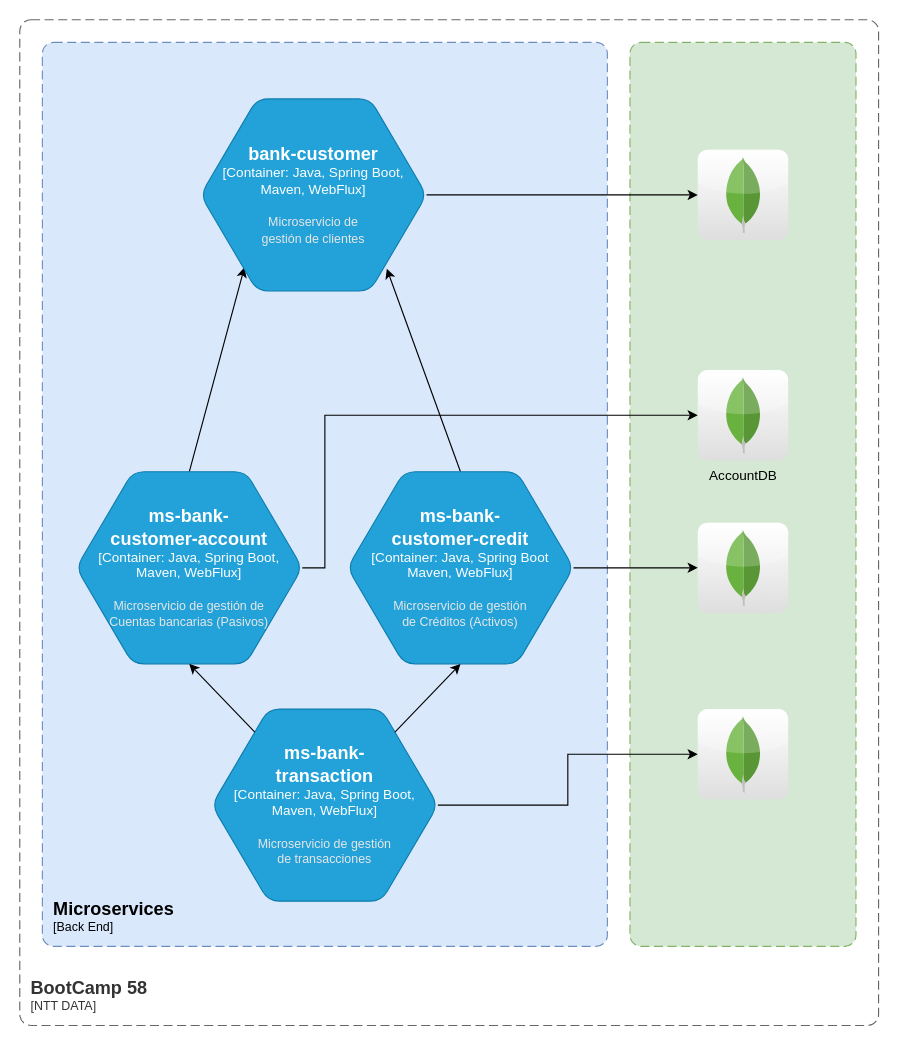
Some shapes in this 898 by 1045 pixel diagram are drawn without their labels. Here are the shapes that lost their labels. From the top down, the box of each, then its label:
(696, 148, 789, 241): CustomerDB
(629, 41, 856, 946): Data Base [MongoDB]
(697, 521, 788, 613): CreditProductDB
(697, 708, 788, 799): TransactionDB
